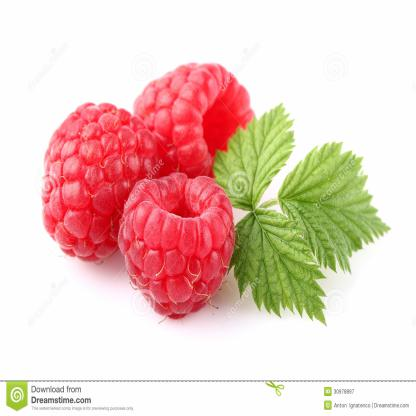Raspberry leaf: (282, 142, 394, 266), (230, 205, 332, 327), (212, 98, 298, 207)
